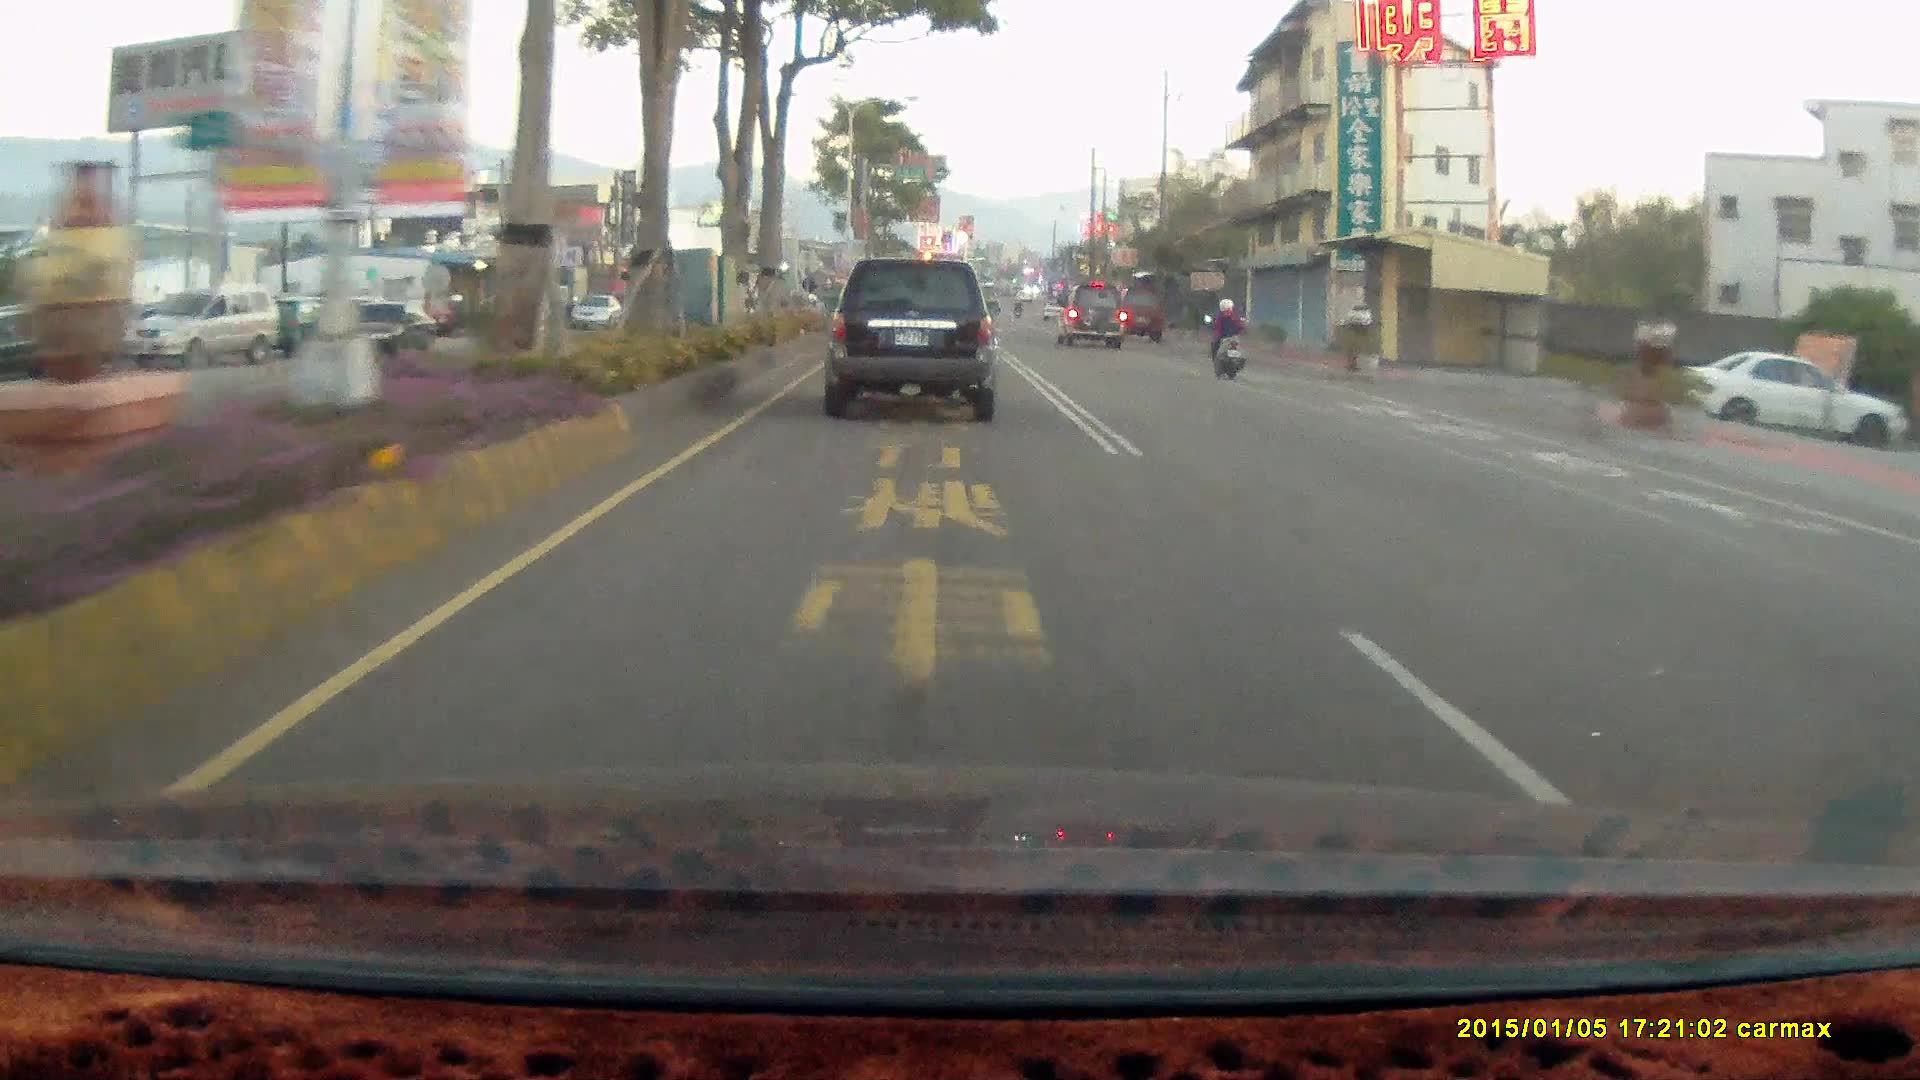rider: (1197, 290, 1256, 388), (1202, 298, 1246, 381)
vehicle: (815, 256, 1006, 427), (821, 260, 1000, 423), (1681, 351, 1904, 448), (1686, 352, 1901, 450), (124, 288, 285, 374), (119, 289, 280, 370), (325, 304, 440, 366), (1059, 288, 1130, 357), (1053, 282, 1126, 349), (1113, 286, 1164, 342)
